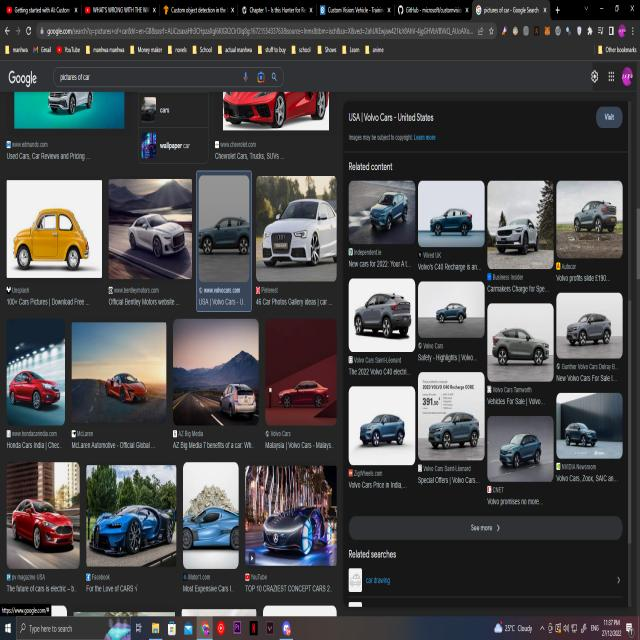car: (262, 198, 336, 270), (12, 206, 91, 269), (11, 498, 77, 559), (91, 508, 173, 554), (256, 509, 332, 556), (124, 209, 188, 264), (493, 323, 552, 370), (355, 293, 411, 341), (9, 368, 61, 411), (428, 414, 480, 456), (366, 187, 409, 234), (496, 214, 538, 260), (359, 412, 406, 450), (280, 379, 330, 414), (499, 430, 542, 470), (430, 204, 474, 243), (568, 310, 612, 347), (573, 198, 618, 234), (104, 372, 148, 407), (219, 384, 255, 418), (562, 417, 600, 448), (436, 298, 467, 326)
